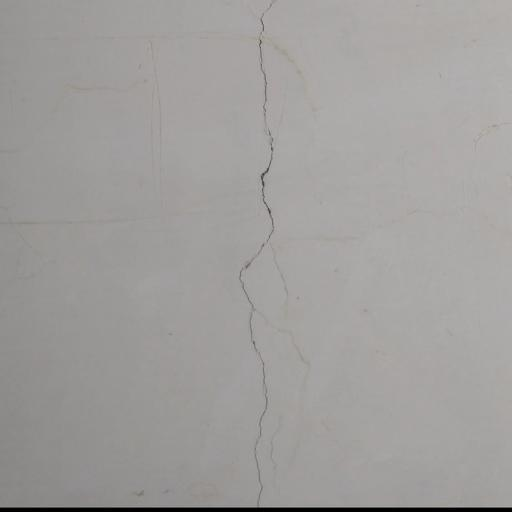minor_crack: (220, 2, 322, 512)
